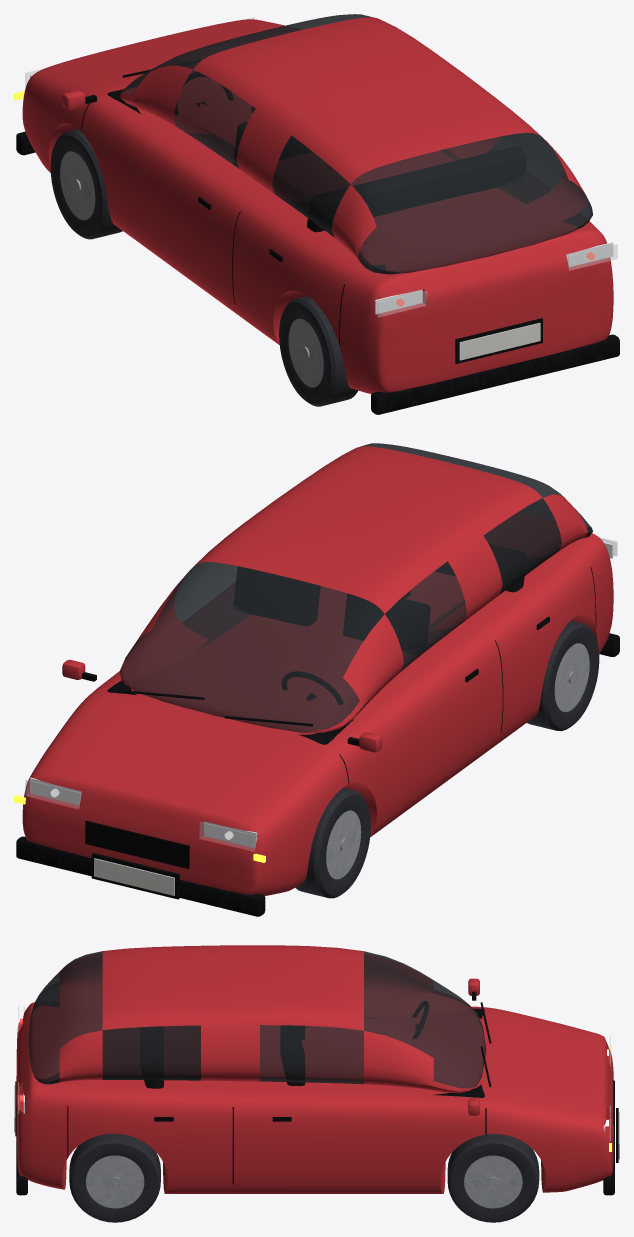
Rendered from hatchback_red.gltf.
3 views of the same model, one above another, from view 1: azimuth 30°, elevation 25°; view 2: azimuth 150°, elevation 25°; view 3: azimuth 270°, elevation 25° (orthographic). The views are drawn at different scales.
Visible parts, largest first — view 1: hatchback_red; view 2: hatchback_red; view 3: hatchback_red.
Part boxes in pixels (x1=…): hatchback_red: x1=14, y1=14, x2=619, y2=414; hatchback_red: x1=14, y1=443, x2=619, y2=916; hatchback_red: x1=14, y1=945, x2=619, y2=1222.
Bounding box in the file's own units: 2.04 × 1.45 × 4.1.
17 materials, 8 textured.
